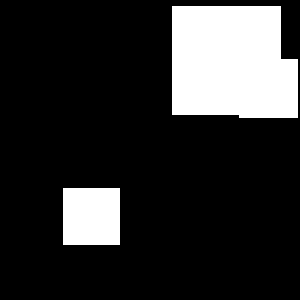circle: (172, 6, 281, 115), (239, 59, 298, 118), (63, 188, 120, 245)
rectangle: (212, 76, 226, 90)
